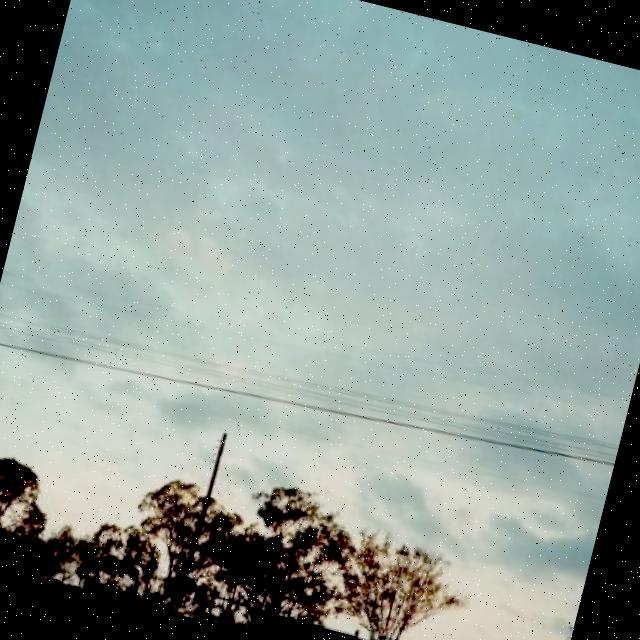Sc: (3, 1, 640, 428)
